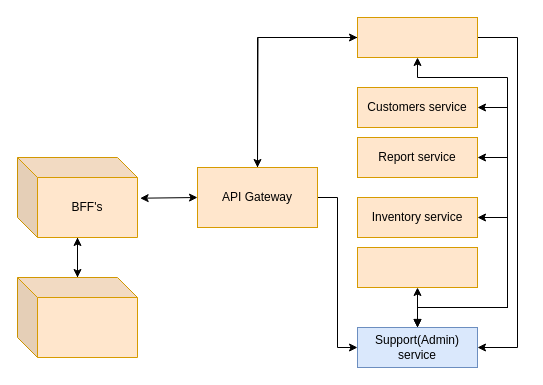
The diagram is 543 pixels wide and 385 high, and some of its shapes have lost their labels. The box of each missing label's shape, as (x1, y1, x2, y2) in pixels:
Accounting service: (356, 246, 478, 288)
Authentication service: (356, 16, 478, 58)
Supporters(Admins): (16, 276, 138, 358)
